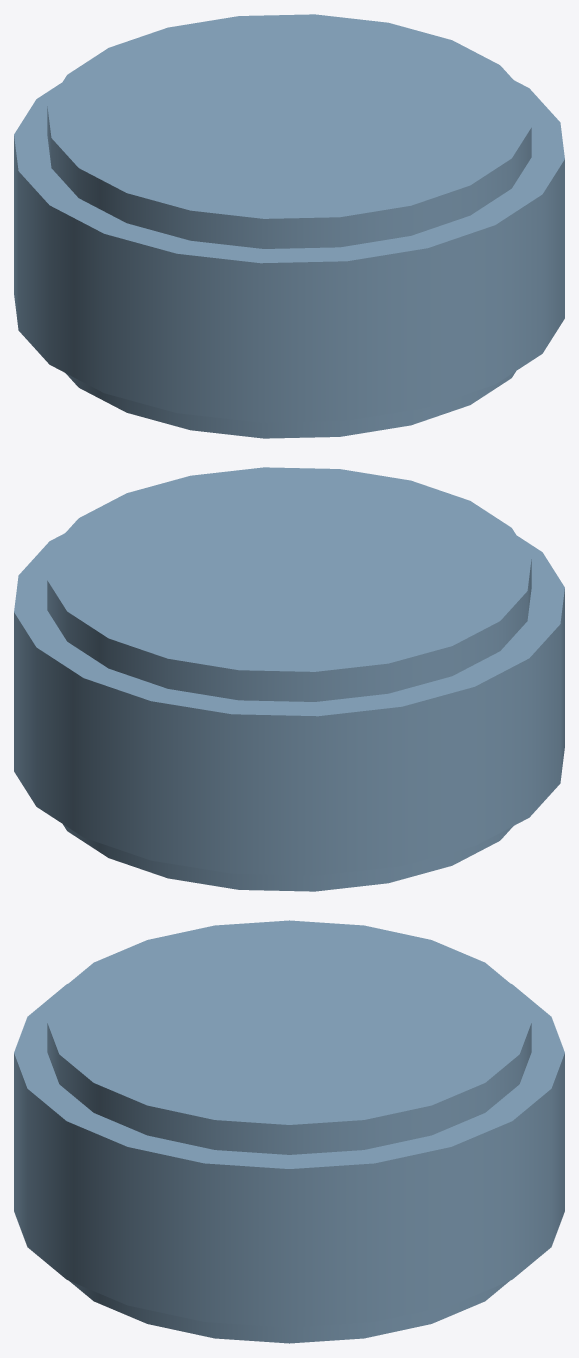
Rendered from hub_motor_can.glb.
3 renders of one model, top to bottom at view 1: azimuth 30°, elevation 25°; view 2: azimuth 150°, elevation 25°; view 3: azimuth 270°, elevation 25°, orthographic.
Parts seen in each view (by area): view 1: hub_motor_can; view 2: hub_motor_can; view 3: hub_motor_can.
Part boxes in pixels (bbox=[...]): hub_motor_can: bbox=[14, 14, 564, 438]; hub_motor_can: bbox=[14, 467, 564, 891]; hub_motor_can: bbox=[14, 920, 564, 1343].
Size of the model in its own units: 0.32 by 0.14 by 0.32.
